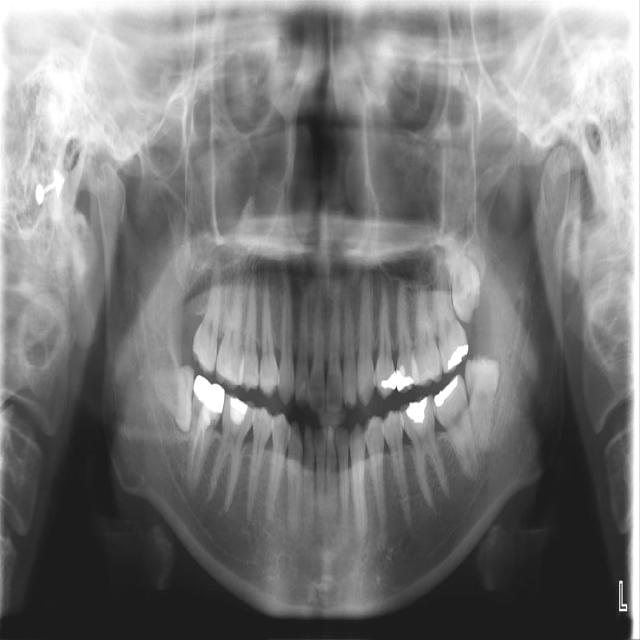Crown: (191, 375, 225, 414)
Filling: (432, 374, 461, 408), (402, 395, 433, 424), (227, 397, 249, 426), (448, 344, 472, 368), (395, 366, 413, 390), (381, 371, 397, 388)
Root Canal Treatment: (190, 424, 199, 480), (197, 431, 202, 465)
impacted tooth: (139, 366, 193, 430), (466, 357, 502, 451), (442, 234, 479, 324)
